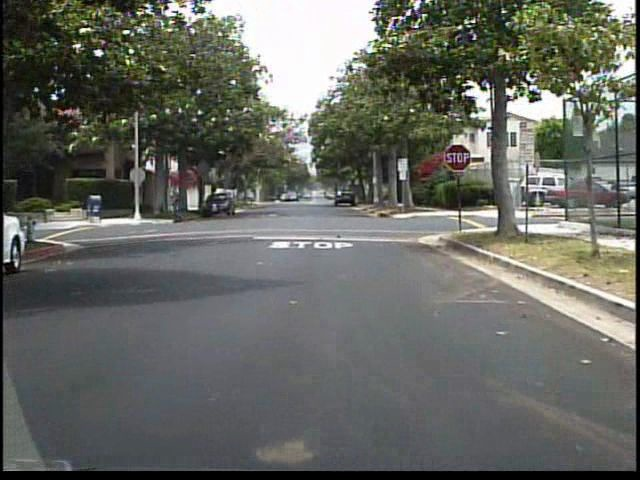person: (165, 179, 188, 227)
